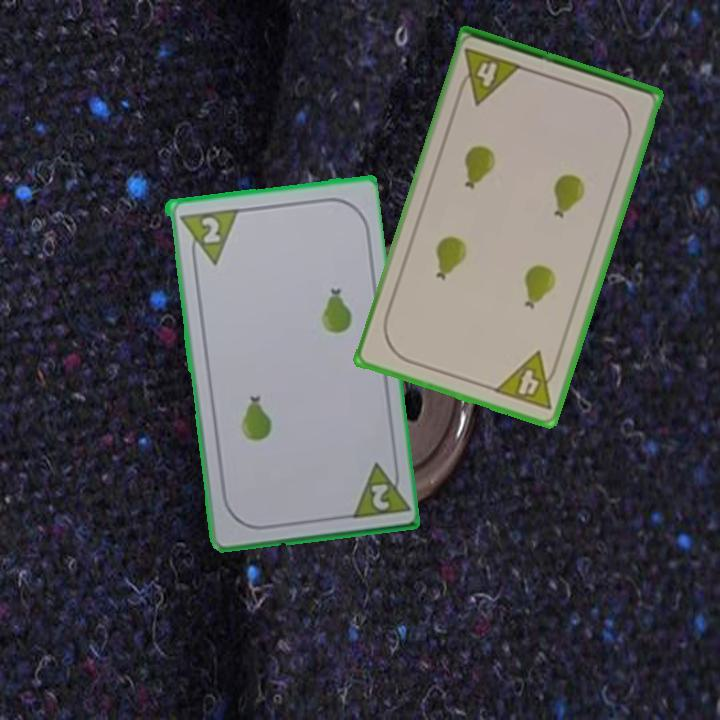2p: (344, 456, 409, 522), (175, 205, 239, 269)
4p: (490, 348, 564, 414), (453, 44, 525, 108)
